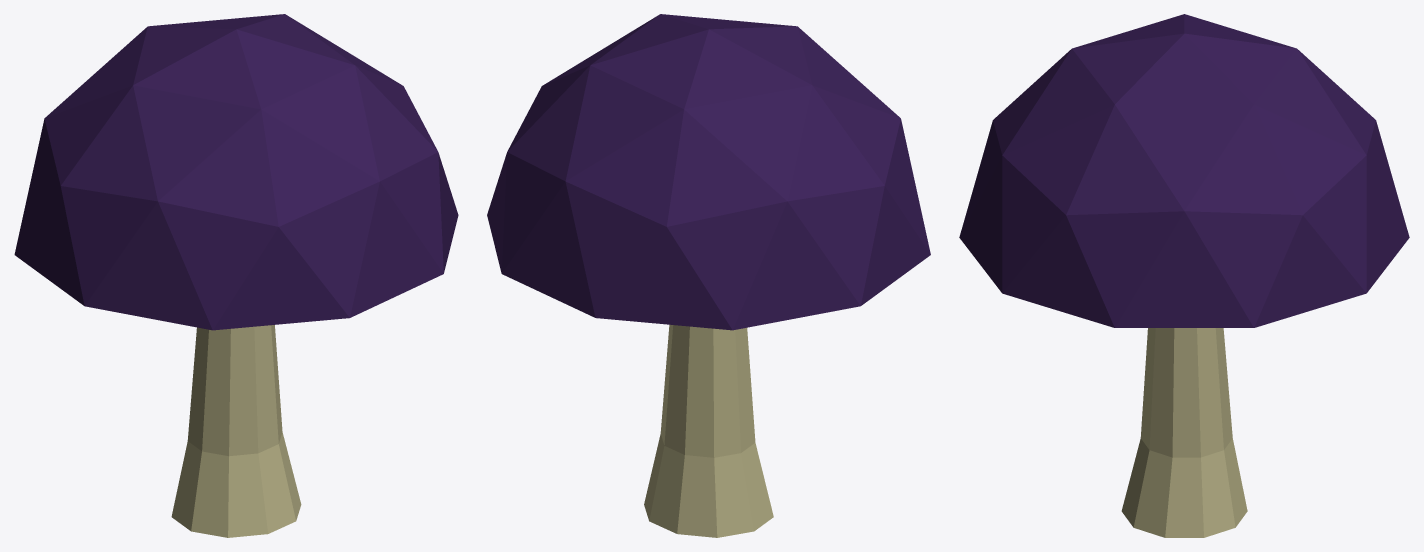
The model's file is mushrooom01_purple.fbx.
The picture shows the model from 3 angles, left to right: view 1: azimuth 30°, elevation 25°; view 2: azimuth 150°, elevation 25°; view 3: azimuth 270°, elevation 25°; orthographic projection.
Visible parts, largest first — view 1: mushrooom01_purple; view 2: mushrooom01_purple; view 3: mushrooom01_purple.
Part boxes in pixels (bbox=[...]): mushrooom01_purple: bbox=[14, 14, 458, 537]; mushrooom01_purple: bbox=[487, 14, 930, 537]; mushrooom01_purple: bbox=[959, 14, 1409, 537].
Bounding box in the file's own units: 59.22 × 72.89 × 62.27.
